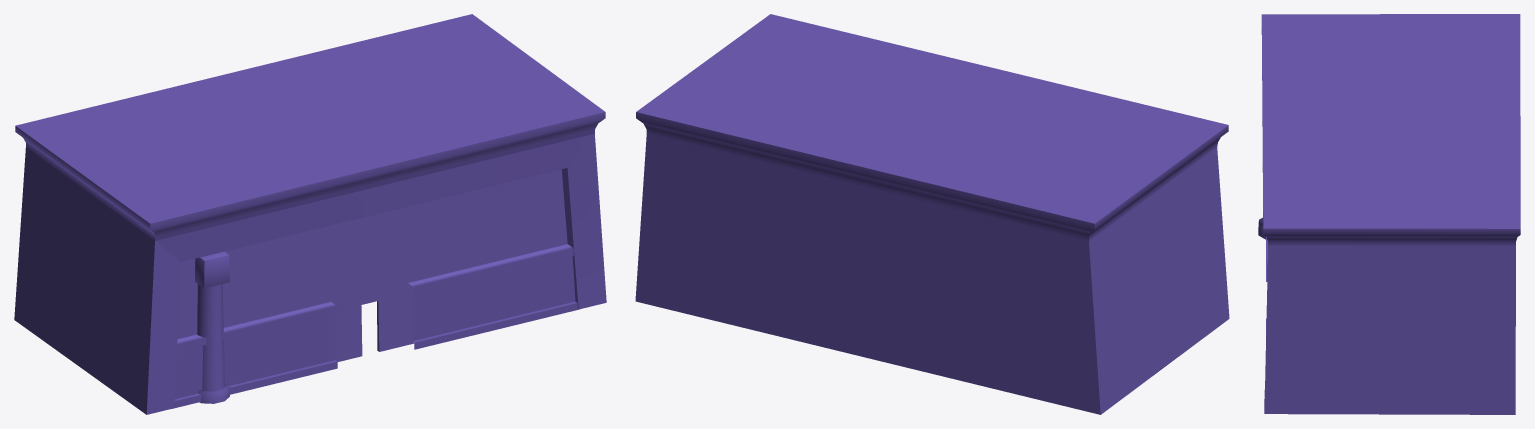
The model's file is Central_Temple_Low.fbx.
3 views of the same model, side by side, from view 1: azimuth 30°, elevation 25°; view 2: azimuth 150°, elevation 25°; view 3: azimuth 270°, elevation 25° (orthographic). The views are drawn at different scales.
Parts seen in each view (by area): view 1: Central_Temple_Low, temple_column_Low; view 2: Central_Temple_Low; view 3: Central_Temple_Low.
Boxes of the visible parts, x1,y1,x2,y2 form: Central_Temple_Low: (14,14,606,414); temple_column_Low: (195,251,229,403); Central_Temple_Low: (635,14,1229,414); Central_Temple_Low: (1261,14,1520,414).
Bounding box in the file's own units: 1391 × 556 × 708.
